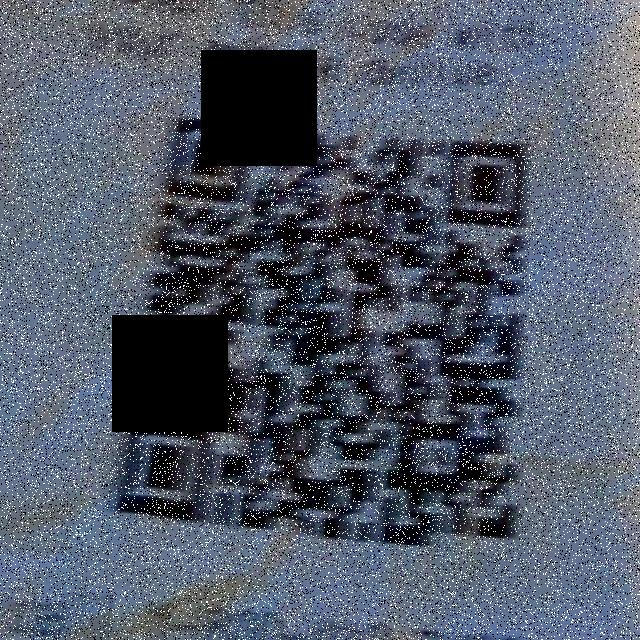QR_CODE: (102, 90, 542, 561)
